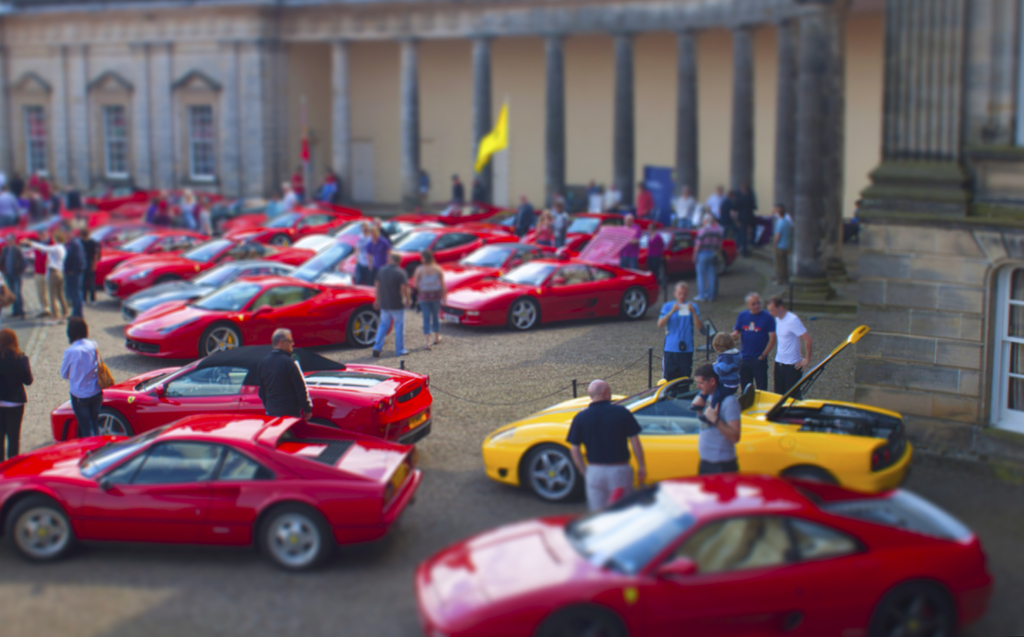cars: (0, 181, 736, 359), (411, 470, 992, 636), (8, 377, 419, 578), (478, 321, 911, 496), (46, 343, 433, 446)
